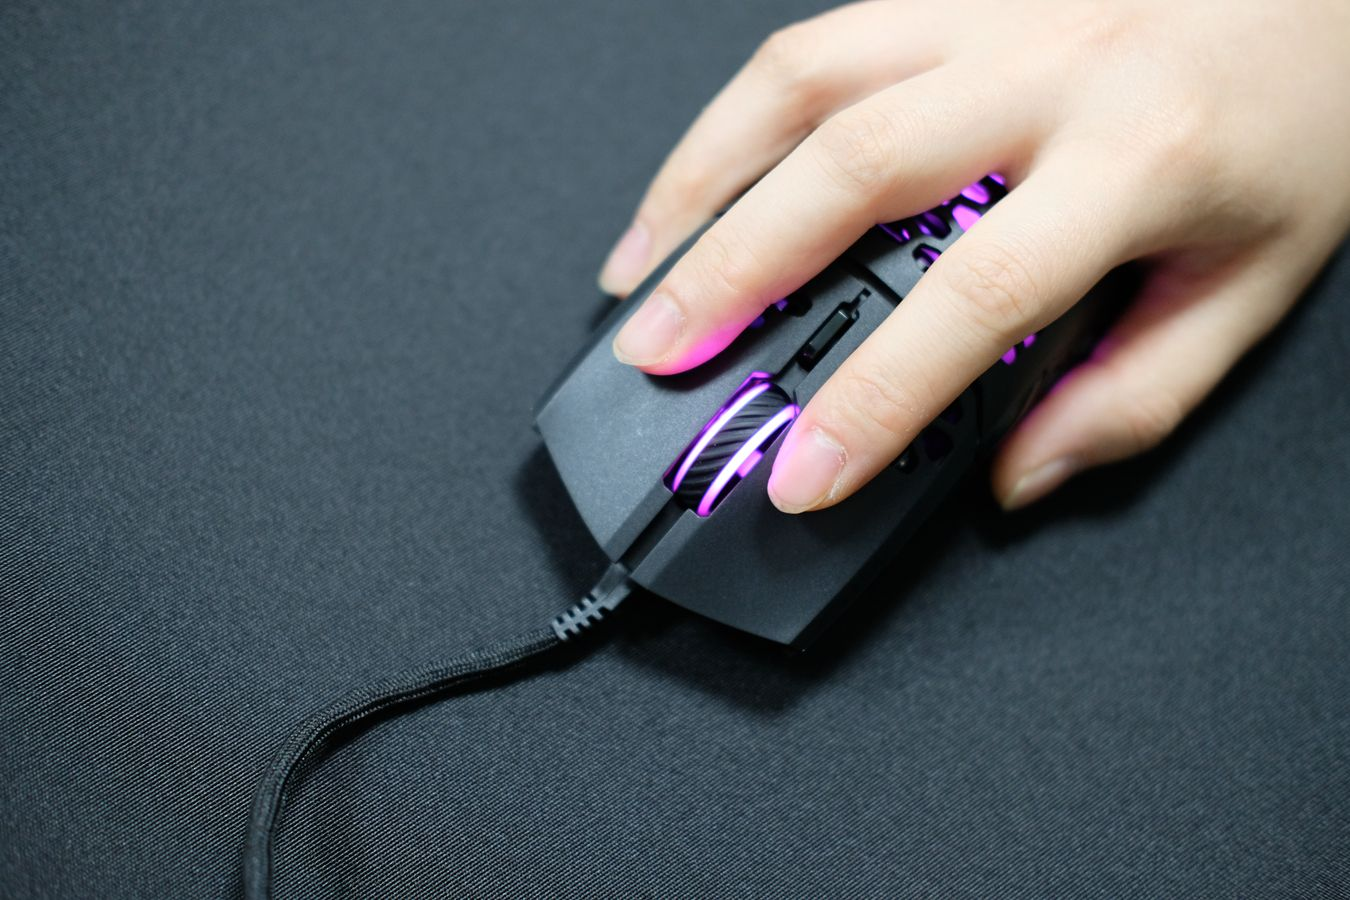no-phone: (522, 9, 1336, 653)
